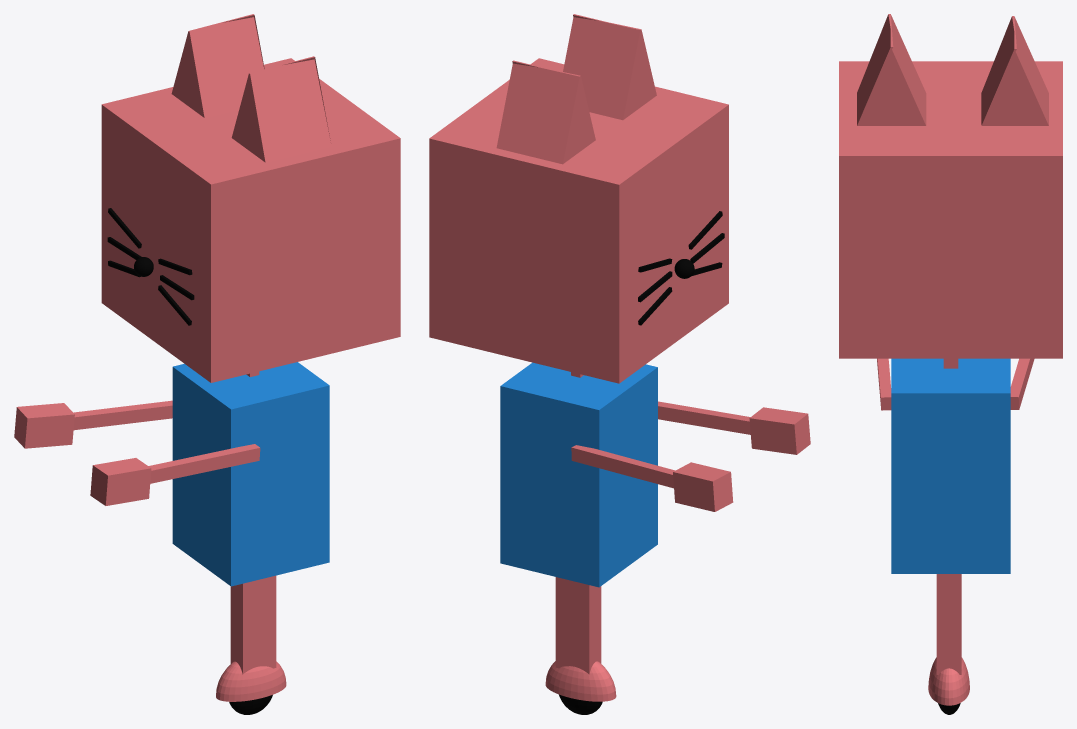
Rendered from groundenemie model.fbx.
3 views of the same model, side by side, from view 1: azimuth 30°, elevation 25°; view 2: azimuth 150°, elevation 25°; view 3: azimuth 270°, elevation 25° (orthographic). The views are drawn at different scales.
Parts seen in each view (by area): view 1: Cube.001, Cube, Cube.007, Cube.004, Cube.009, Cube.003, Cube.011, Sphere.002, Cube.010, Cube.006; view 2: Cube.001, Cube, Cube.004, Cube.007, Cube.009, Cube.011, Cube.003, Sphere.002, Cube.006, Cube.010; view 3: Cube.001, Cube, Cube.007, Cube.004, Cube.009, Sphere.002, Cube.006, Cube.010.
Boxes of the visible parts, left/top/right/bottom form: Cube.001: left=101, top=58, right=400, bottom=382; Cube: left=172, top=362, right=329, bottom=586; Cube.007: left=231, top=56, right=331, bottom=162; Cube.004: left=171, top=14, right=264, bottom=117; Cube.009: left=230, top=575, right=276, bottom=674; Cube.003: left=14, top=403, right=74, bottom=448; Cube.011: left=90, top=458, right=151, bottom=505; Sphere.002: left=216, top=661, right=286, bottom=701; Cube.010: left=148, top=444, right=260, bottom=483; Cube.006: left=73, top=400, right=172, bottom=430; Cube.001: left=429, top=58, right=728, bottom=383; Cube: left=500, top=362, right=657, bottom=587; Cube.004: left=496, top=60, right=595, bottom=164; Cube.007: left=563, top=14, right=656, bottom=120; Cube.009: left=555, top=577, right=601, bottom=674; Cube.011: left=749, top=407, right=810, bottom=454; Cube.003: left=673, top=462, right=733, bottom=511; Sphere.002: left=545, top=661, right=616, bottom=701; Cube.006: left=571, top=445, right=674, bottom=488; Cube.010: left=658, top=401, right=750, bottom=434; Cube.001: left=839, top=61, right=1062, bottom=358; Cube: left=891, top=358, right=1010, bottom=573; Cube.007: left=857, top=14, right=926, bottom=125; Cube.004: left=981, top=16, right=1048, bottom=125; Cube.009: left=936, top=574, right=961, bottom=674; Sphere.002: left=928, top=657, right=969, bottom=705; Cube.006: left=1010, top=358, right=1034, bottom=409; Cube.010: left=877, top=358, right=891, bottom=410.
Size of the model in its own units: 99.08 by 222 by 65.97.
